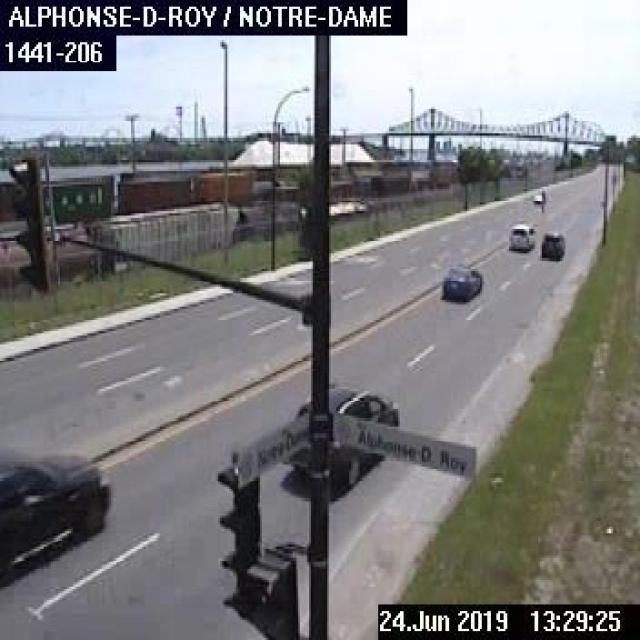vehicle: (0, 447, 113, 593), (284, 382, 402, 484), (440, 262, 482, 300), (507, 221, 534, 250), (538, 230, 565, 258), (530, 191, 544, 203)
